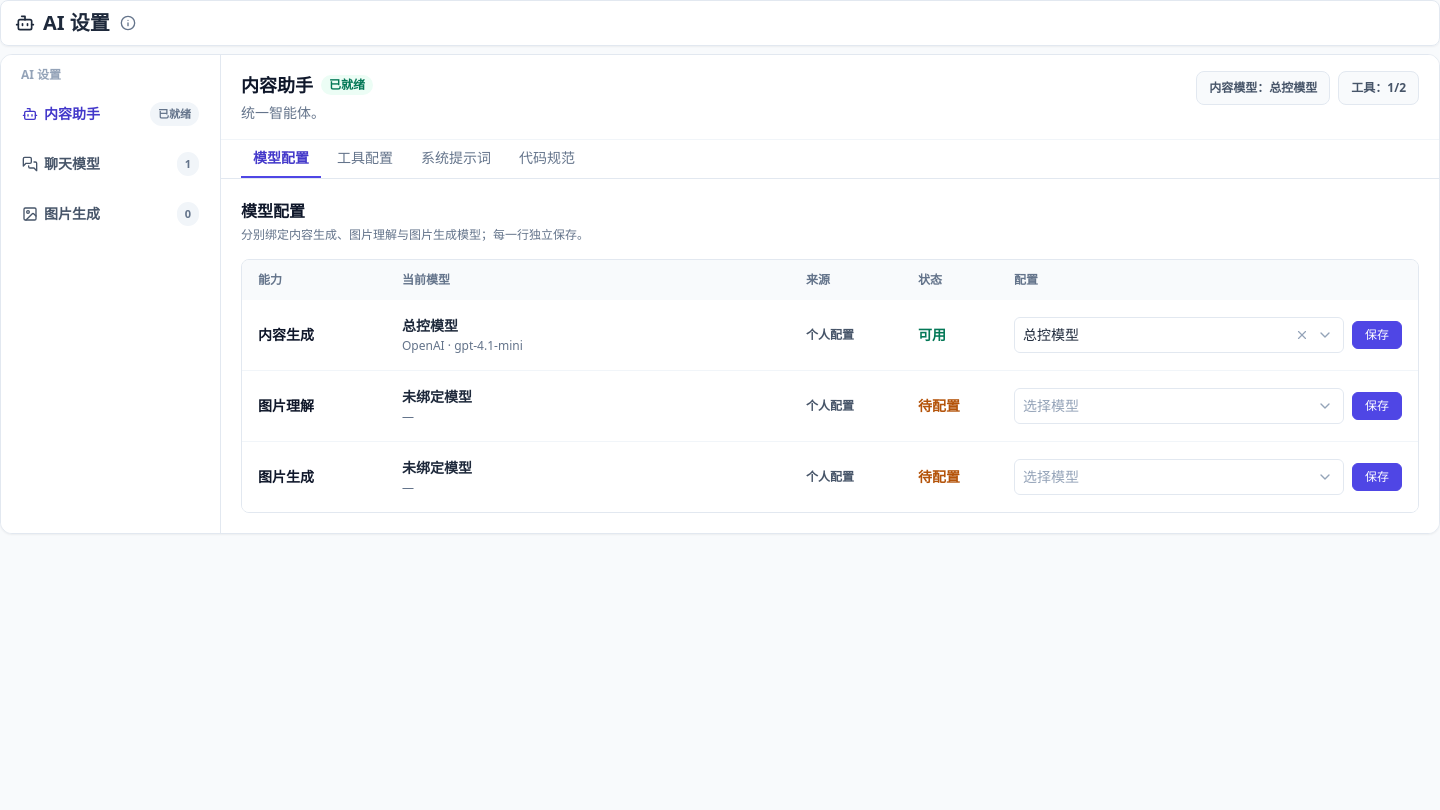
Test: AccountAiSettingsView › 模型管理应使用表格，并在宽版弹窗完成详情与创建
The width and height of the screenshot is (1440, 810).
Check: the heading "内容助手" is shown, box [241,71,313,99]
Check: the text "内容生成" is shown, box [242,300,386,370]
Click the button "聊天模型 1". click: (110, 164)
box: [9,141,212,187]
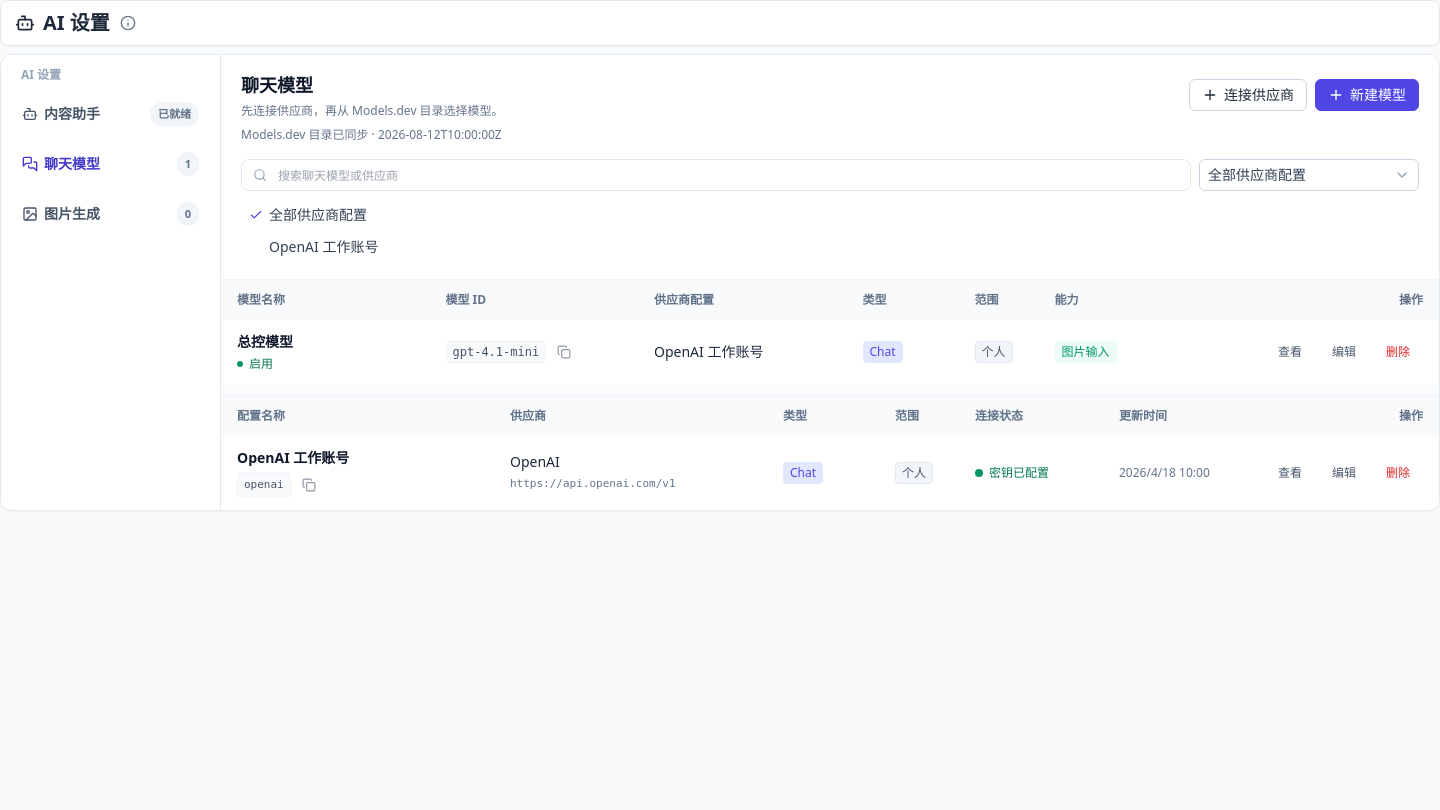
Check: the heading "聊天模型" is shown, box [241,73,313,97]
Check: the column heading "模型 ID" is shown, box [430,280,638,320]
Check: the row "总控模型 启用 gpt-4.1-mini OpenAI 工作账号 Chat 个人 图片输入 查看 编辑 删除" is shown, box [221,320,1439,384]
Click the button "新建模型". click: (1367, 95)
box: [1315,79,1419,111]
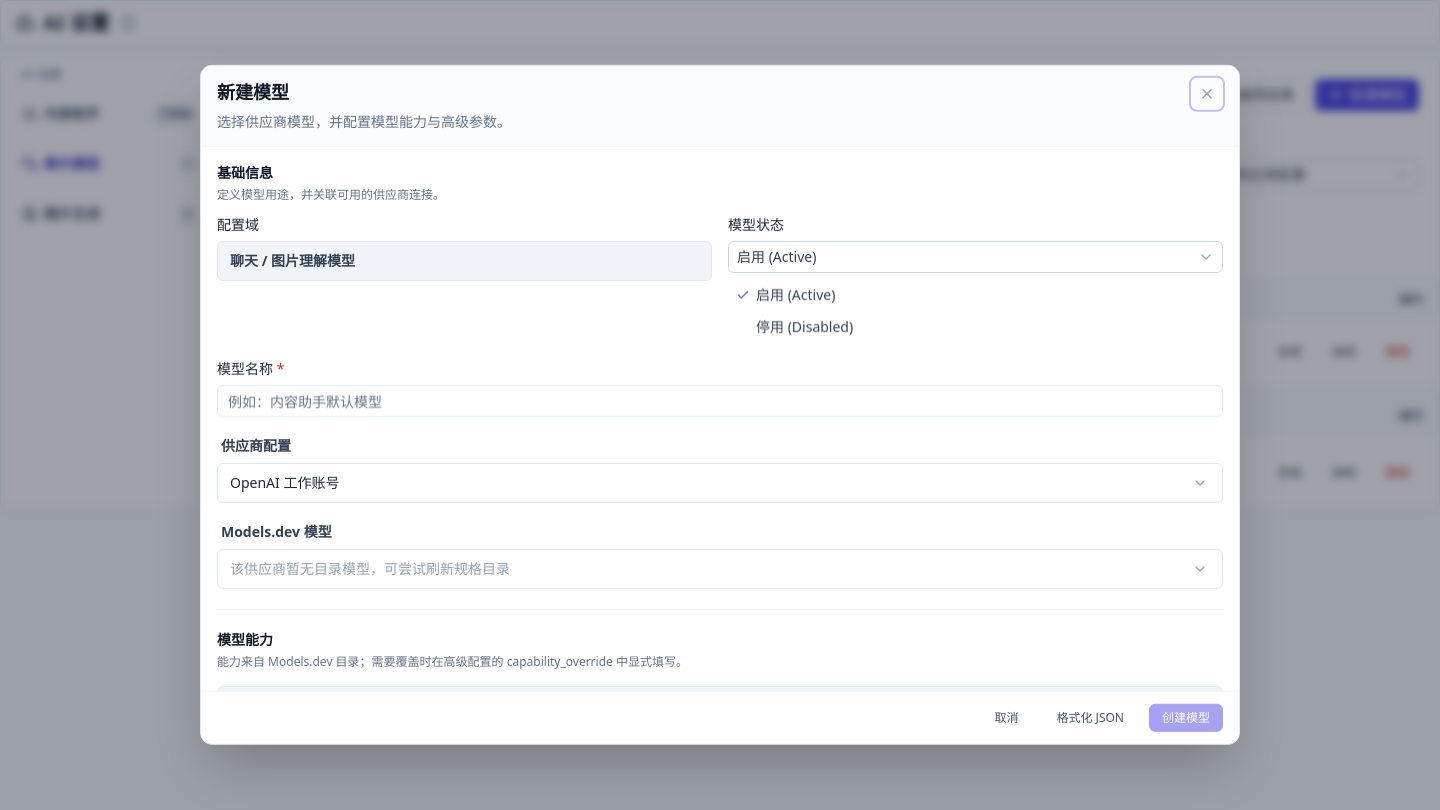
Check: the heading "新建模型" is shown, box [217,80,289,104]
Check: the text "选择供应商模型，并配置模型能力与高级参数。" is shown, box [217,112,511,131]
Check: the 2nd button named "关闭新建模型" is shown
Click the 2nd button named "关闭新建模型". click: (1207, 94)
box: [1191,78,1223,110]
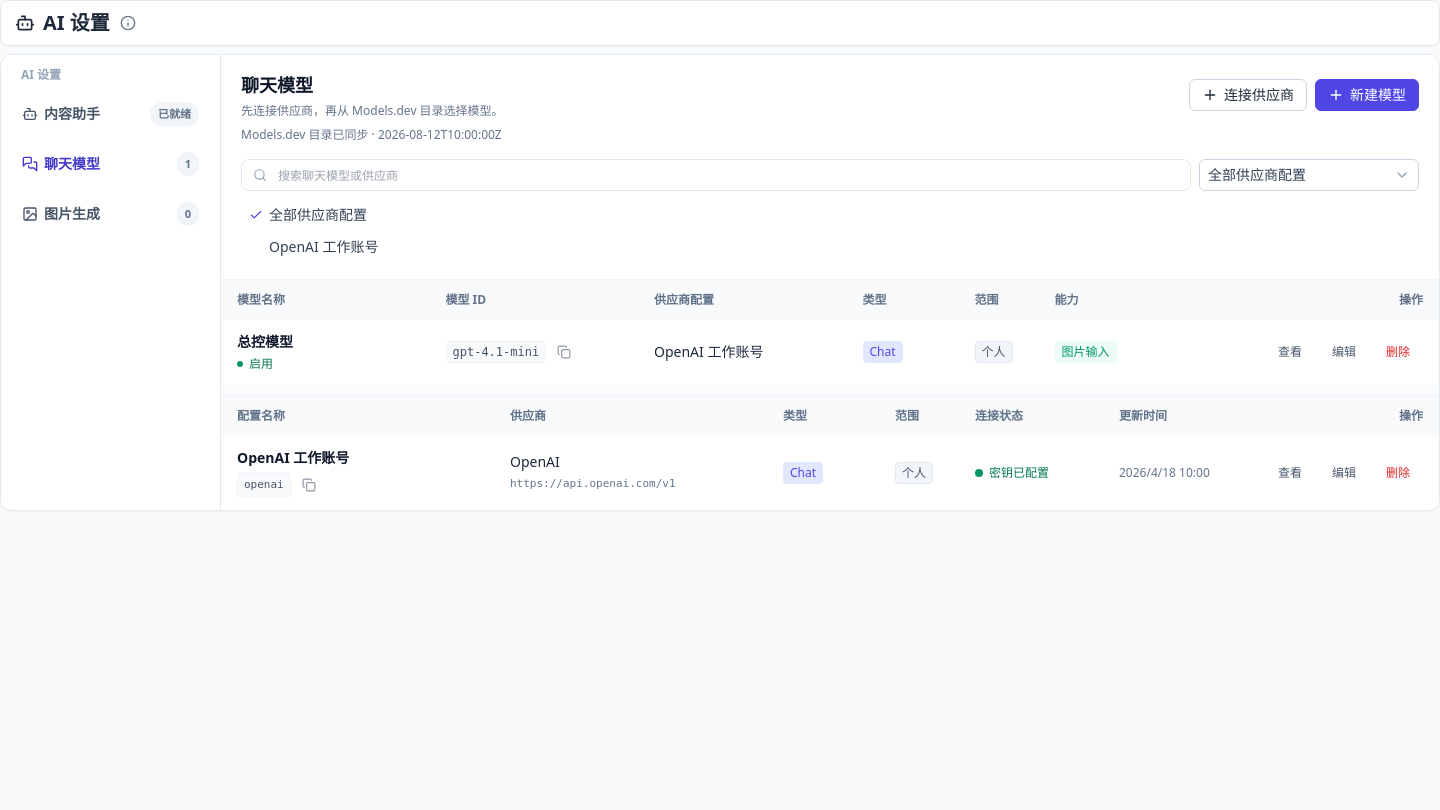
Click the button "新建模型". click: (1367, 95)
box: [1315,79,1419,111]
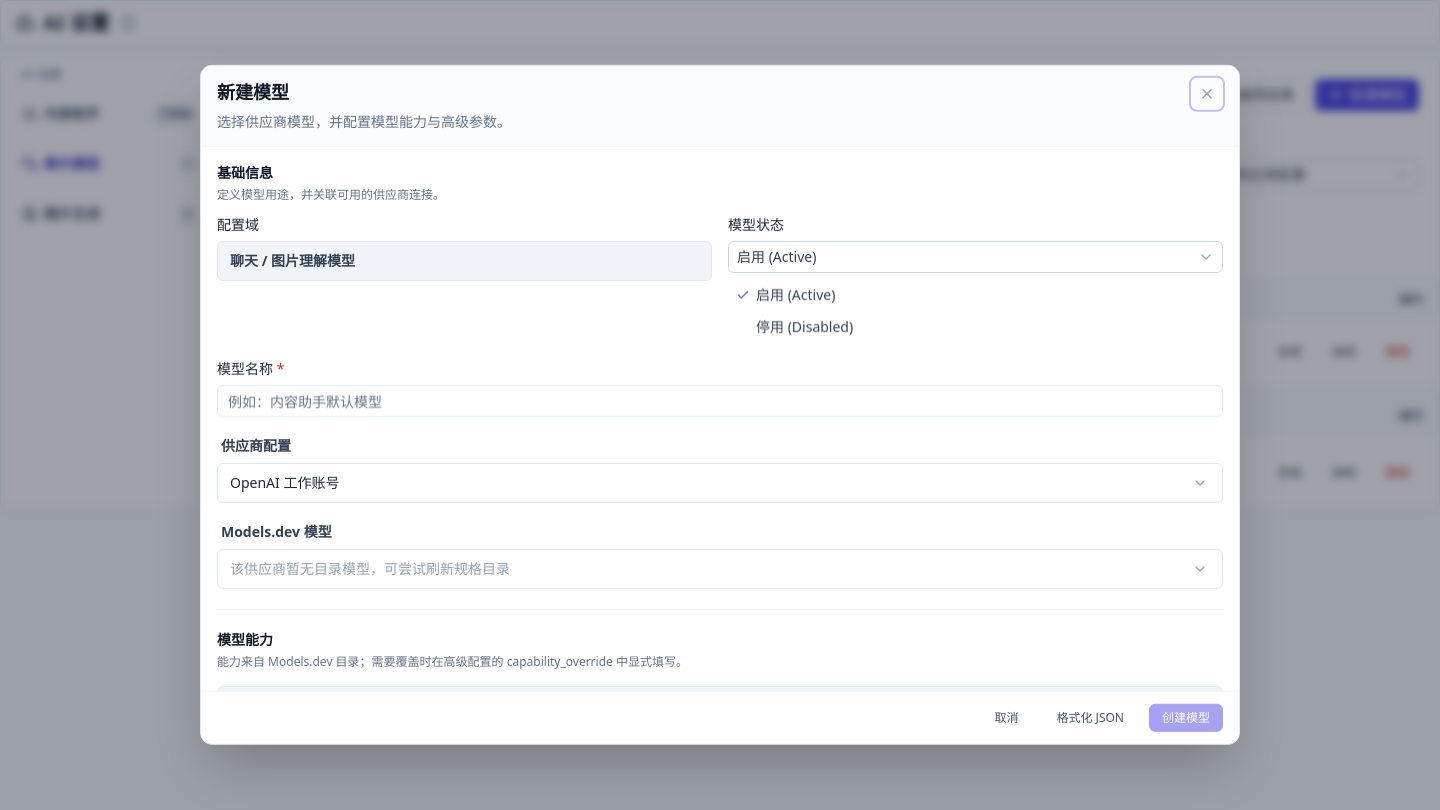
Check: the field labelled "模型名称 *" is shown, box [217,385,1223,417]
Check: the text "Models.dev 模型" is shown, box [221,522,332,541]
Check: the text "配置域" is shown, box [217,215,259,234]
